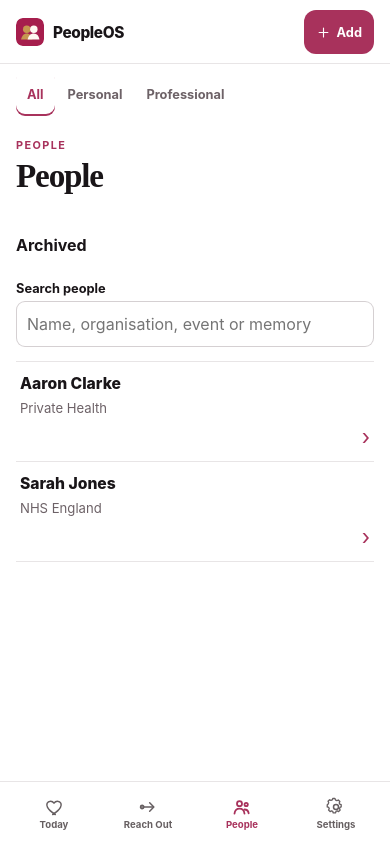
it: V1-11 People search and filters UI › keeps archived People out of the normal list with one quiet recovery toggle
Expected: the text "Alex Archived" is not shown
Click the button "Archived".
click(51, 246)  # box top-left (16, 224), bottom-right (87, 268)
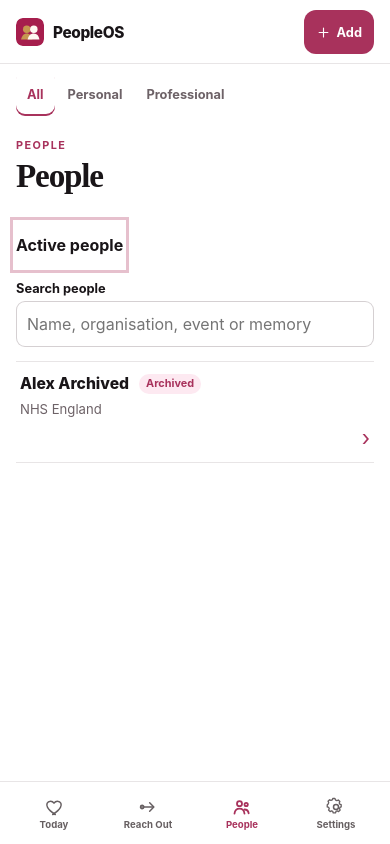
Result: the text "Alex Archived" is shown at top-left (20, 374), bottom-right (129, 394)
Result: the link "Sarah Jones" is gone
Result: the button "Active people" is shown at top-left (16, 224), bottom-right (123, 268)
Click the link "Alex Archived Archived NHS England".
click(75, 384)  # box top-left (16, 362), bottom-right (374, 462)
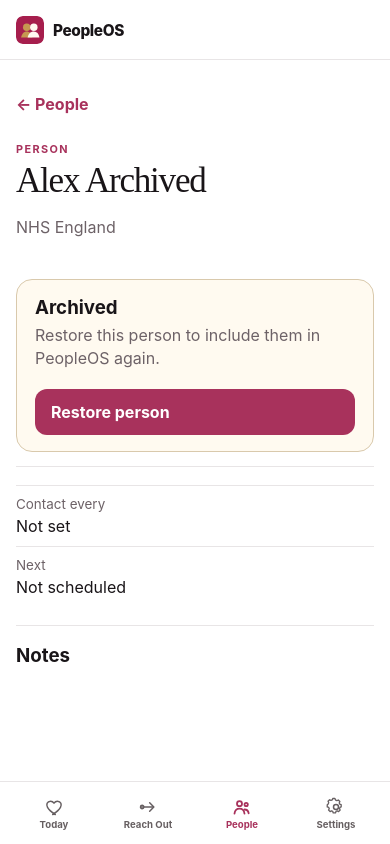
Result: the heading "Archived" is shown at top-left (35, 296), bottom-right (118, 319)
Click the button "Restore person".
click(110, 412)  # box top-left (35, 388), bottom-right (355, 434)
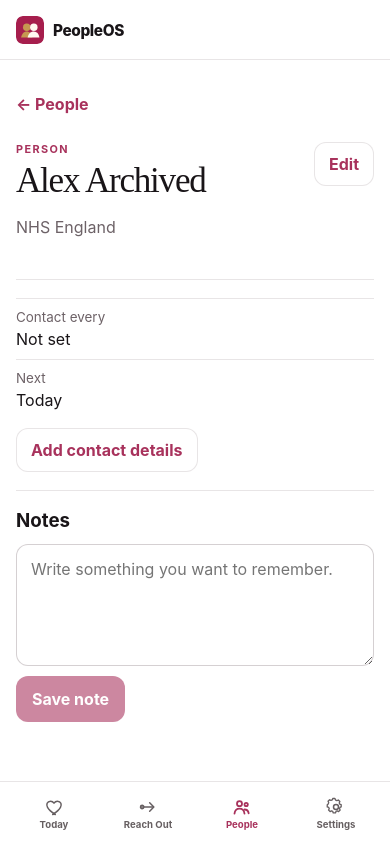
Result: the button "Edit" is shown at top-left (314, 142), bottom-right (374, 186)
